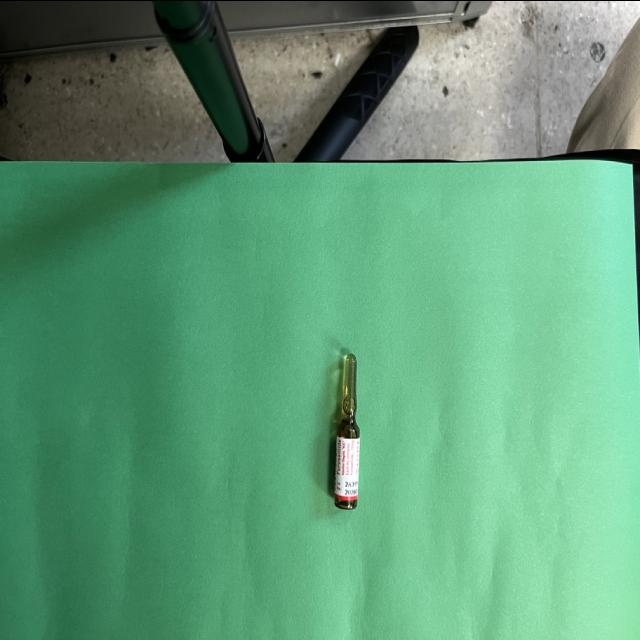Ampoules: (334, 353, 360, 509)
